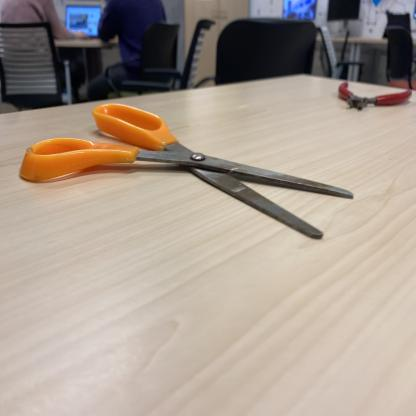scissors: (19, 102, 357, 243)
